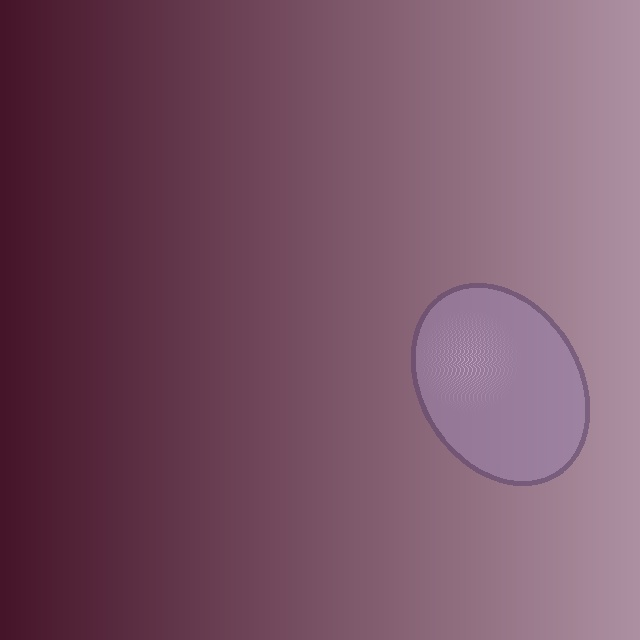lens: (413, 285, 587, 483)
